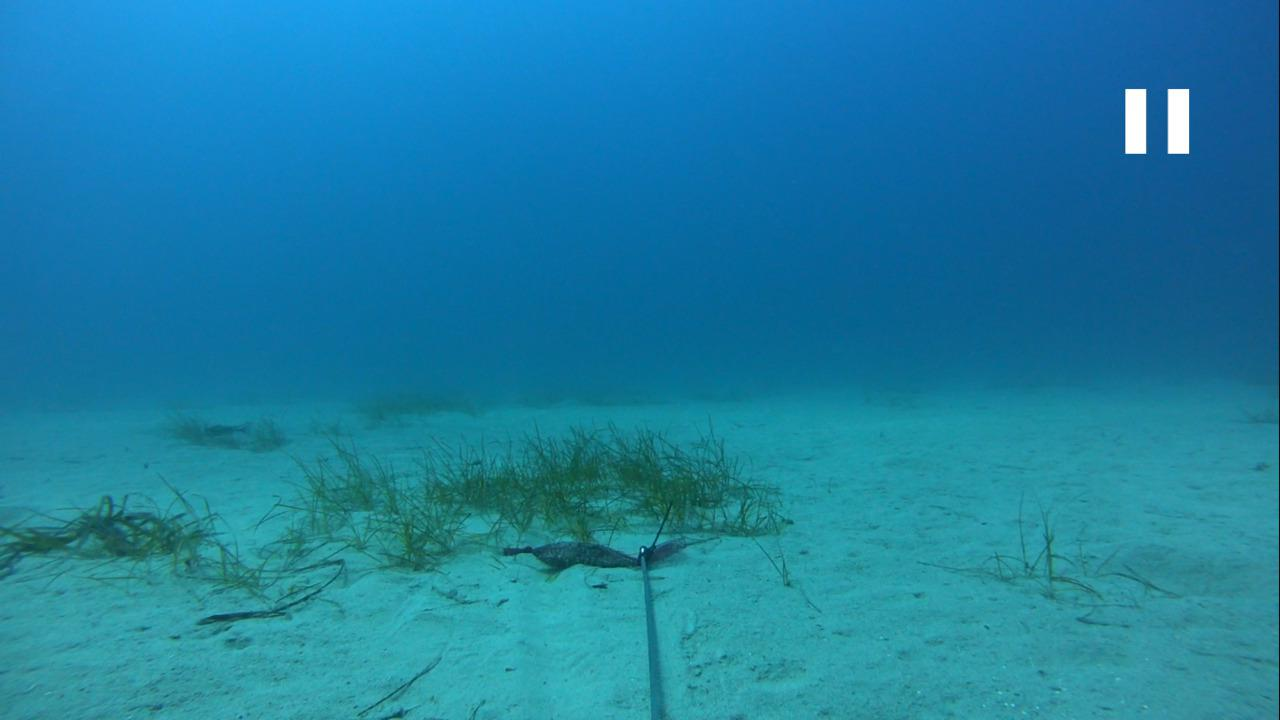dactylopterus: (186, 414, 264, 450)
